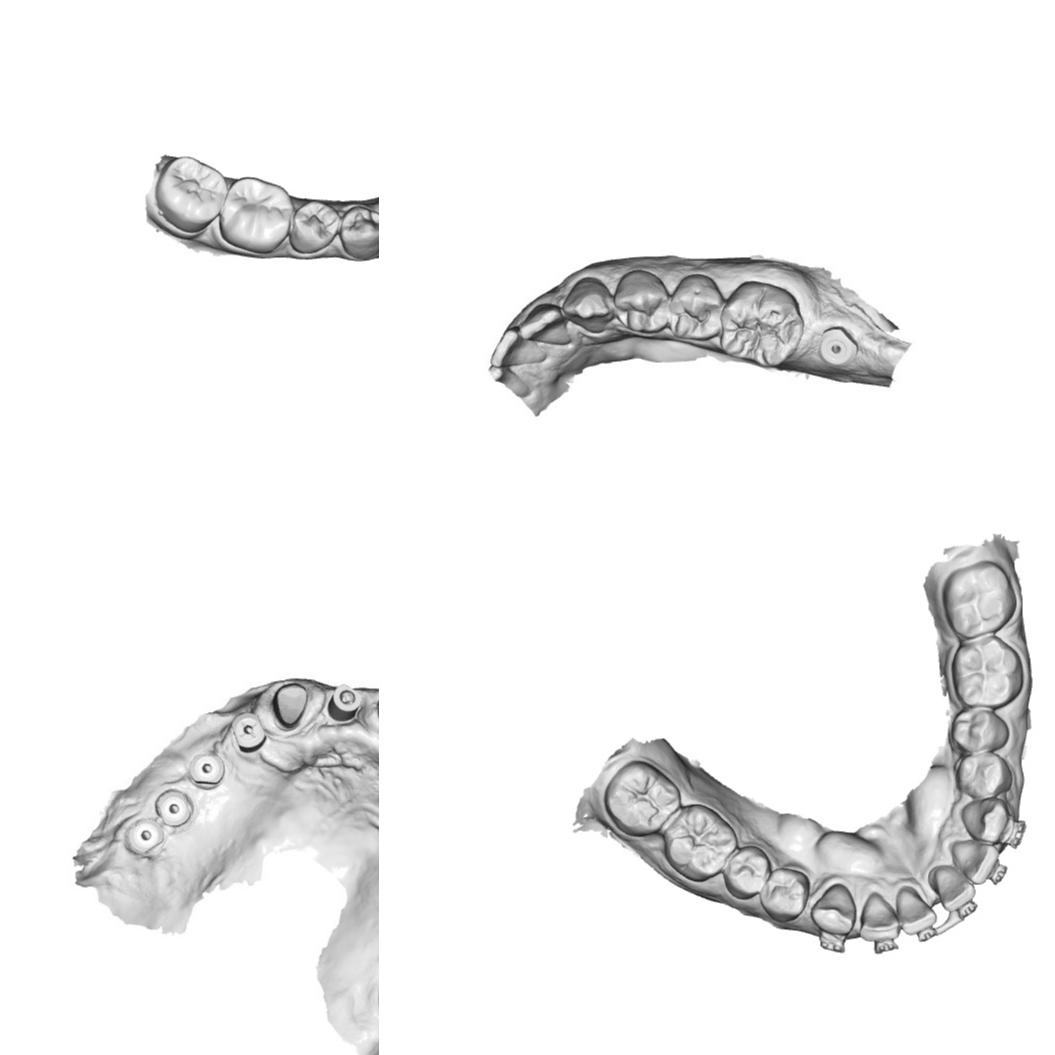canine: (565, 272, 617, 335), (958, 794, 1010, 843), (810, 882, 855, 935)
crown: (269, 678, 319, 733)
implant: (816, 322, 859, 370), (156, 785, 194, 831), (324, 682, 366, 722), (127, 814, 161, 861), (190, 751, 223, 788)
implant_plus: (228, 710, 264, 754)
incisor: (489, 326, 551, 370), (948, 839, 1000, 885), (519, 302, 569, 349), (929, 862, 975, 913), (858, 893, 902, 943), (894, 886, 936, 937)
molar: (717, 280, 807, 369), (598, 760, 682, 839), (660, 802, 738, 883), (218, 175, 294, 254), (940, 559, 1016, 638), (153, 156, 228, 234), (948, 633, 1023, 710)
premolar: (611, 269, 672, 336), (668, 272, 720, 343), (757, 866, 812, 924), (948, 704, 1010, 754), (720, 842, 772, 901), (290, 198, 340, 255), (954, 750, 1012, 799), (338, 203, 379, 260)
